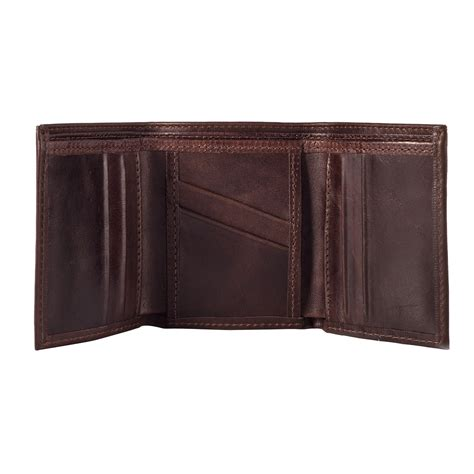cuero: (32, 119, 452, 352)
